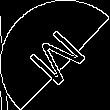M_SE: (20, 21, 90, 89)
